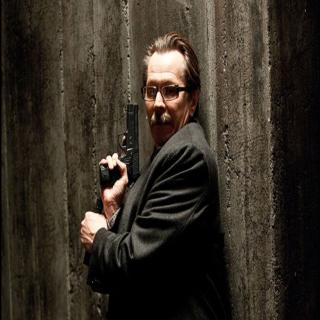gun: (96, 100, 142, 190)
